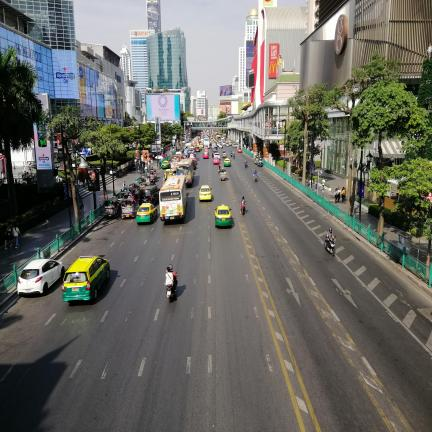bus: (159, 175, 187, 221), (176, 159, 194, 186)
car: (17, 259, 65, 296), (222, 151, 227, 158)
human: (165, 265, 177, 294), (169, 265, 177, 292), (165, 267, 173, 291), (12, 224, 20, 248), (325, 228, 335, 246), (5, 224, 12, 249), (172, 269, 177, 293), (42, 204, 48, 222), (241, 196, 245, 213), (327, 228, 333, 239), (341, 187, 345, 202), (321, 178, 325, 191), (338, 187, 341, 202), (334, 188, 337, 203), (340, 188, 343, 202), (131, 194, 135, 203), (254, 169, 257, 181), (338, 187, 340, 202), (315, 178, 317, 192), (241, 196, 245, 203), (164, 171, 167, 180), (258, 160, 262, 166), (123, 182, 126, 190), (309, 179, 311, 189), (254, 169, 257, 175), (218, 163, 220, 169), (255, 157, 257, 163), (218, 167, 220, 173), (212, 151, 214, 157), (245, 159, 247, 165), (221, 169, 225, 172), (259, 152, 260, 158), (233, 153, 234, 158), (231, 152, 232, 156)
motorbike: (167, 274, 178, 301), (324, 237, 335, 256), (167, 284, 175, 301), (240, 201, 245, 215), (257, 160, 263, 167), (254, 174, 258, 182), (169, 264, 173, 271), (254, 158, 258, 164), (232, 153, 235, 159), (245, 162, 247, 168), (218, 168, 220, 174), (173, 272, 174, 273)
taxi: (62, 256, 110, 301), (136, 203, 158, 223), (215, 204, 232, 227), (199, 185, 212, 201), (164, 168, 174, 180), (162, 160, 170, 169), (224, 158, 231, 166), (213, 157, 220, 164), (203, 152, 209, 158)
van: (139, 186, 159, 205)
